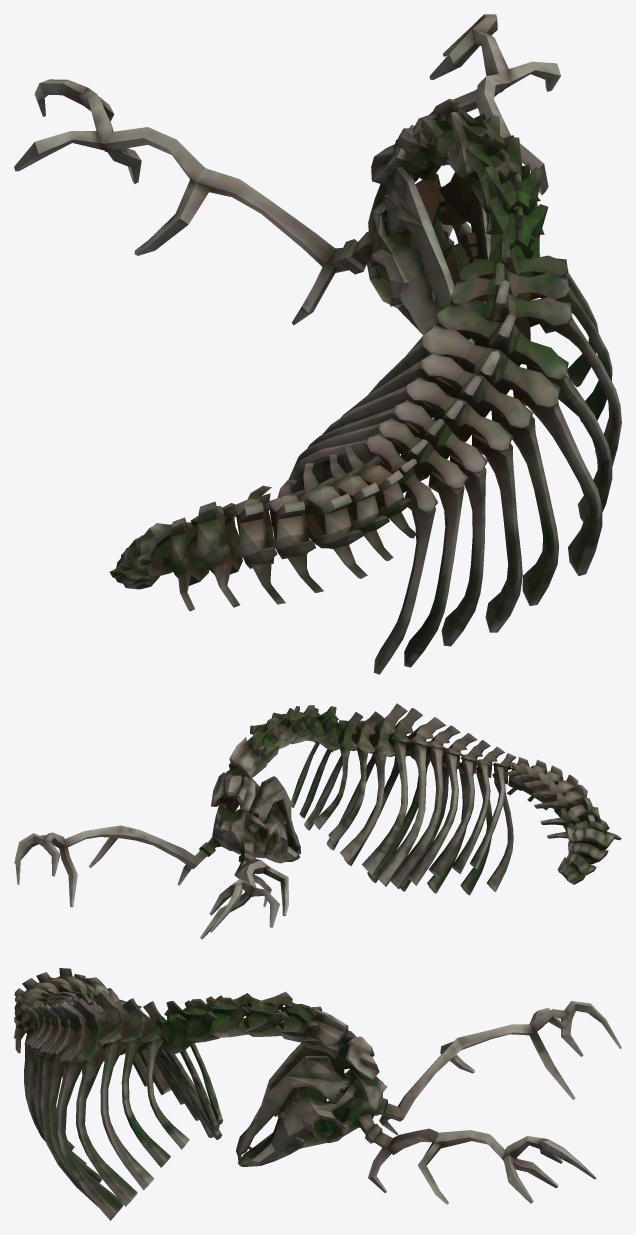
The model's file is DeerSkeleton.fbx.
The picture shows the model from 3 angles, top to bottom: view 1: azimuth 30°, elevation 25°; view 2: azimuth 150°, elevation 25°; view 3: azimuth 270°, elevation 25°; orthographic projection. The views are drawn at different scales.
Visible parts, largest first — view 1: DeerSkeleton_LOD0; view 2: DeerSkeleton_LOD0; view 3: DeerSkeleton_LOD0.
Part boxes in pixels (box(x1,y1,x2,y2)): DeerSkeleton_LOD0: box(14, 14, 621, 674); DeerSkeleton_LOD0: box(14, 703, 621, 939); DeerSkeleton_LOD0: box(14, 968, 621, 1220).
Size of what is drawn, in the model's own units: 1.24 by 1.33 by 0.6013.
